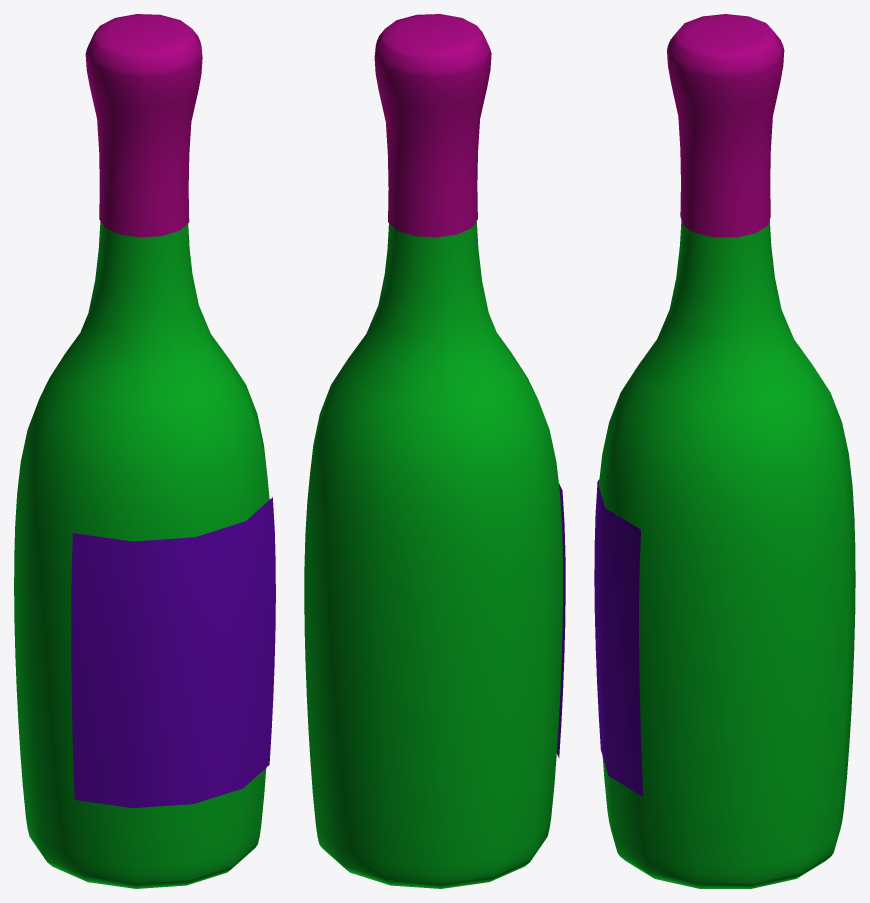
Rendered from ass_WBo1_v00_UV.fbx.
3 views of the same model, side by side, from view 1: azimuth 30°, elevation 25°; view 2: azimuth 150°, elevation 25°; view 3: azimuth 270°, elevation 25° (orthographic).
Parts seen in each view (by area): view 1: polySurface2; view 2: polySurface2; view 3: polySurface2.
Part boxes in pixels (box(x1,y1,x2,y2)): polySurface2: box(14, 14, 275, 888); polySurface2: box(304, 14, 565, 888); polySurface2: box(594, 14, 855, 888).
Size of the model in its own units: 5.11 by 17.76 by 5.17.
